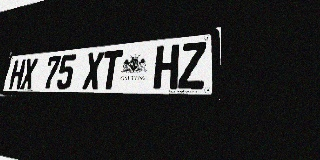5: (56, 54, 76, 89)
7: (42, 56, 61, 89)
H: (153, 44, 180, 89), (8, 59, 26, 90)
T: (99, 50, 123, 89)
X: (82, 51, 104, 89), (20, 58, 38, 89)
Z: (178, 41, 207, 89)
